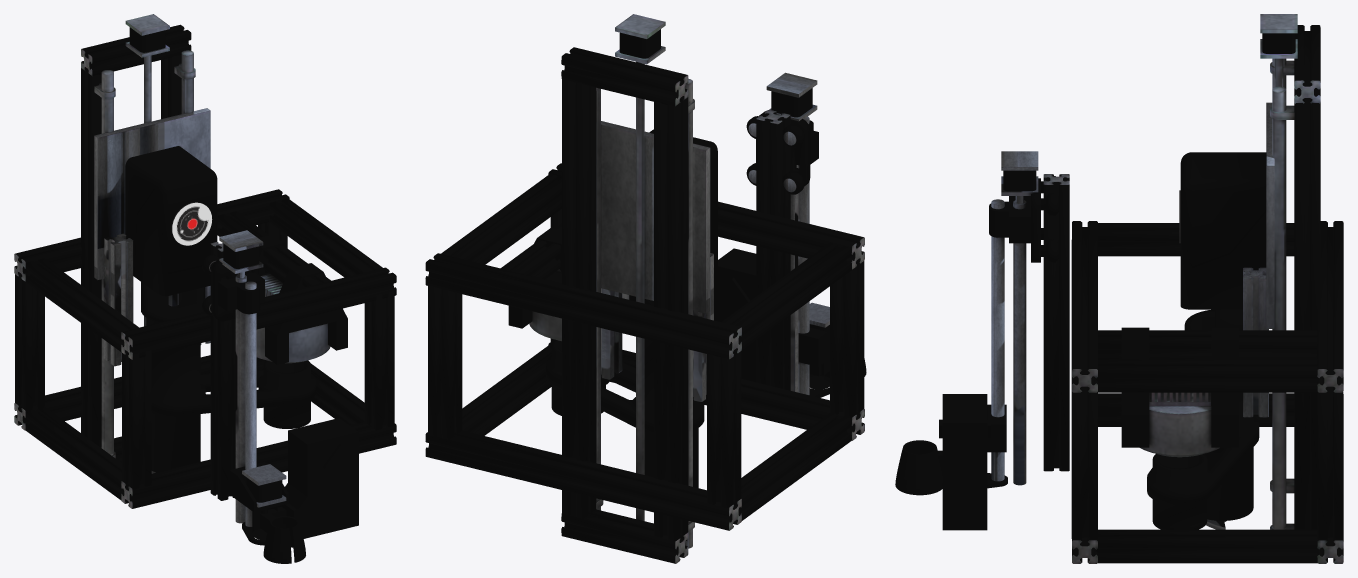
Rendered from SciencePayload.gltf.
3 views of the same model, side by side, from view 1: azimuth 30°, elevation 25°; view 2: azimuth 150°, elevation 25°; view 3: azimuth 270°, elevation 25° (orthographic). The views are drawn at different scales.
Visible parts, largest first — view 1: ScienceBase, DrillStepper, MicroscopeSwivel, MicroscopeStepper; view 2: ScienceBase, DrillStepper, MicroscopeStepper, MicroscopeSwivel; view 3: ScienceBase, DrillStepper, MicroscopeSwivel, MicroscopeStepper.
Boxes of the visible parts, left/top/right/bottom form: ScienceBase: left=14, top=14, right=396, bottom=523; DrillStepper: left=94, top=108, right=315, bottom=473; MicroscopeSwivel: left=252, top=418, right=358, bottom=563; MicroscopeStepper: left=202, top=254, right=288, bottom=545; ScienceBase: left=425, top=14, right=864, bottom=563; DrillStepper: left=546, top=121, right=717, bottom=487; MicroscopeStepper: left=746, top=110, right=829, bottom=397; MicroscopeSwivel: left=714, top=248, right=866, bottom=389; ScienceBase: left=1001, top=14, right=1343, bottom=563; DrillStepper: left=1147, top=102, right=1274, bottom=529; MicroscopeSwivel: left=895, top=394, right=991, bottom=530; MicroscopeStepper: left=987, top=176, right=1058, bottom=488.
Size of the model in its own units: 7.45 by 11.98 by 9.53.
Materials: 4 (4 with a texture image).
